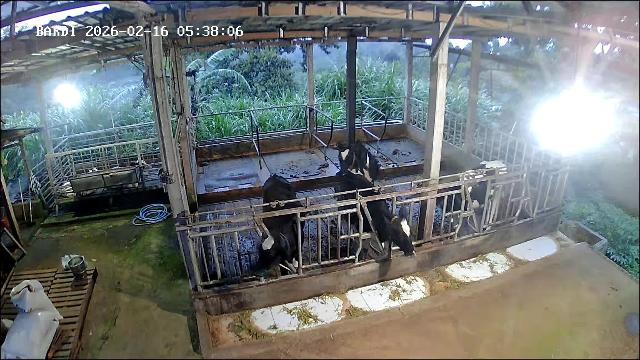mounting: (332, 138, 381, 199)
